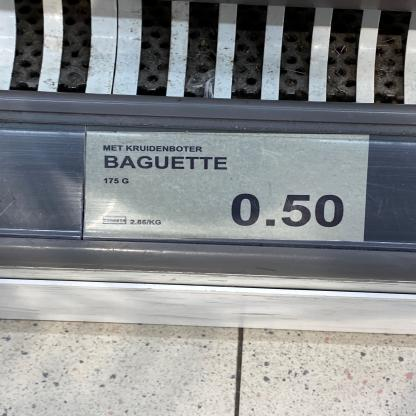prtg: (83, 131, 370, 243)
